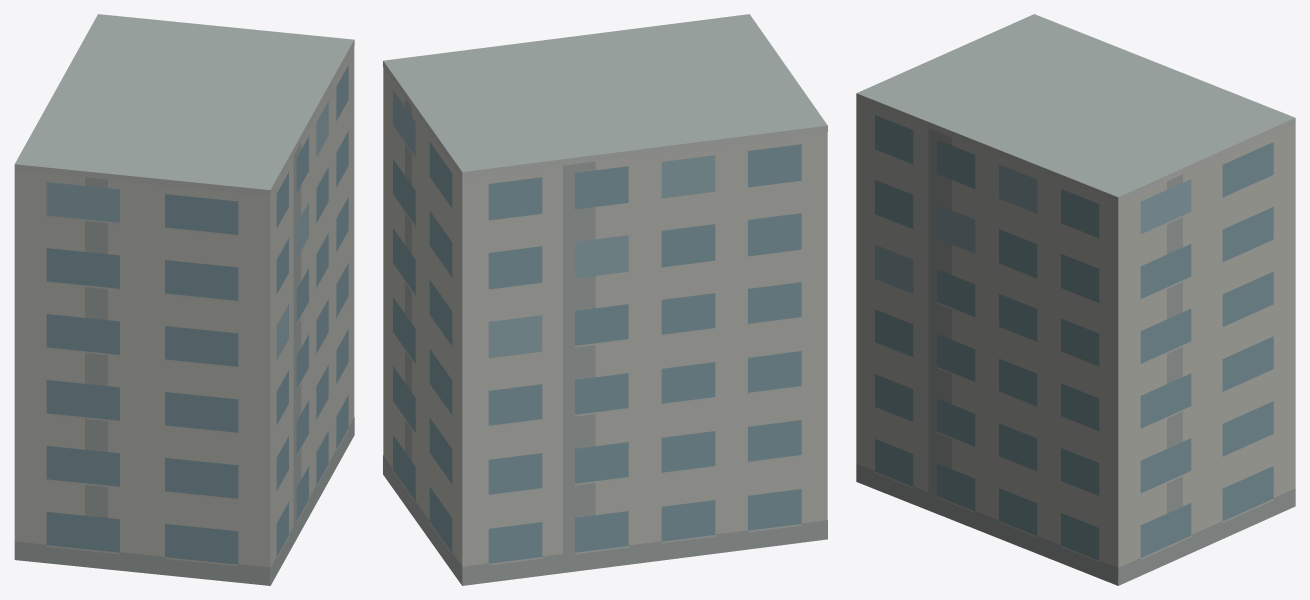
Rendered from survey-upis-32887606.glb.
The picture shows the model from 3 angles, left to right: view 1: azimuth 30°, elevation 25°; view 2: azimuth 150°, elevation 25°; view 3: azimuth 270°, elevation 25°; orthographic projection. The views are drawn at different scales.
Visible parts, largest first — view 1: survey-upis-32887606.tmp; view 2: survey-upis-32887606.tmp; view 3: survey-upis-32887606.tmp.
Boxes of the visible parts, x1,y1,x2,y2 form: survey-upis-32887606.tmp: [14, 14, 354, 585]; survey-upis-32887606.tmp: [383, 14, 827, 585]; survey-upis-32887606.tmp: [856, 14, 1295, 585].
Size of the model in its own units: 15.99 by 15.8 by 16.19.
